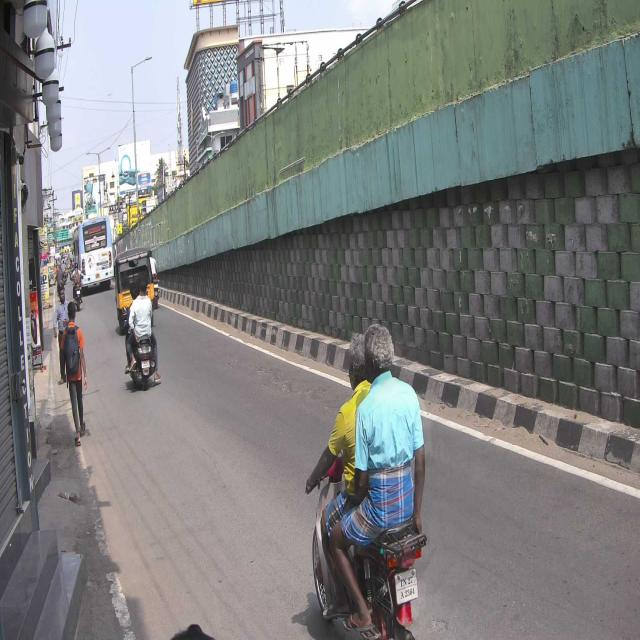double_rider: (306, 322, 427, 640)
